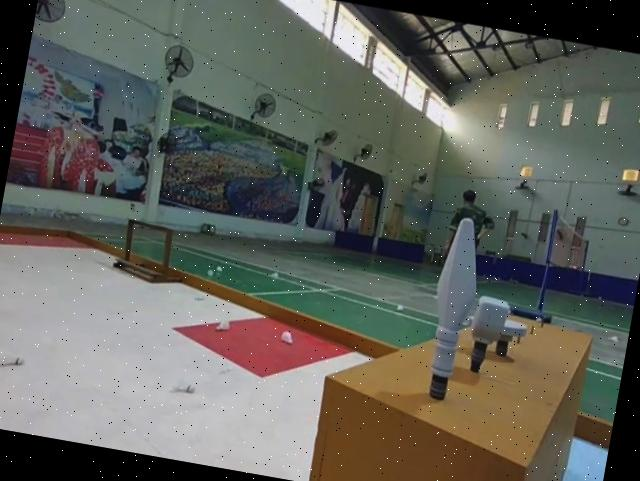Fist: (465, 289, 512, 373)
Hand: (489, 317, 531, 362)
Sph: (418, 214, 496, 404)
